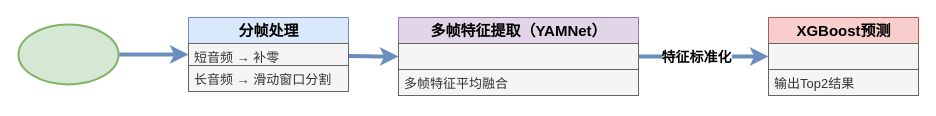
Image size: 936x116. Some labels were removed from this diagram. The shapes that lost their labels are listed below. From the top down, each one's centre as x and y in pixels, then its label:
the point at 68,54: 音频加载
the point at 518,56: 提取每帧统计特征（均值+标准差）
the point at 843,56: 计算类别概率
